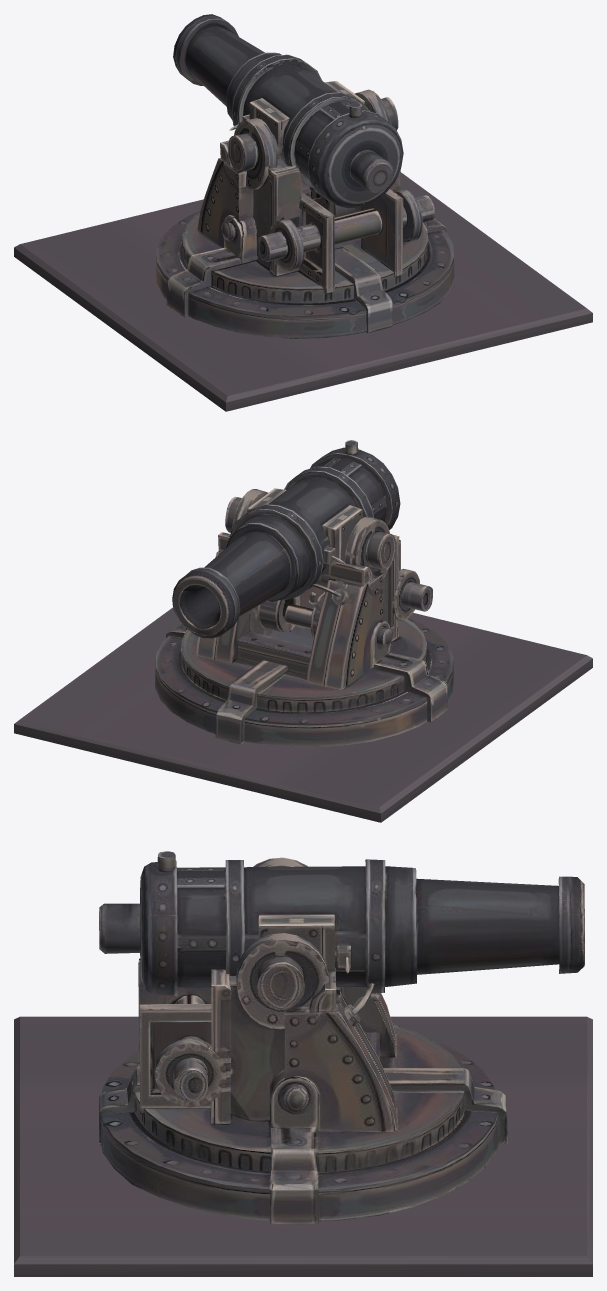
File: cannon33a.glb
3 views of the same model, one above another, from view 1: azimuth 30°, elevation 25°; view 2: azimuth 150°, elevation 25°; view 3: azimuth 270°, elevation 25° (orthographic). The views are drawn at different scales.
Visible parts, largest first — view 1: mount, plate, barrel; view 2: mount, plate, barrel; view 3: mount, plate, barrel.
Part boxes in pixels (box(x1,y1,x2,y2)): mount: box(156, 81, 454, 338); plate: box(14, 172, 592, 411); barrel: box(173, 14, 403, 208); mount: box(155, 477, 453, 746); plate: box(14, 607, 592, 822); barrel: box(172, 440, 400, 638); mount: box(99, 857, 507, 1224); plate: box(14, 1016, 592, 1276); barrel: box(99, 851, 584, 996).
Bounding box in the file's own units: 2.9 × 1.66 × 2.9.
Materials: 2 (2 with a texture image).
